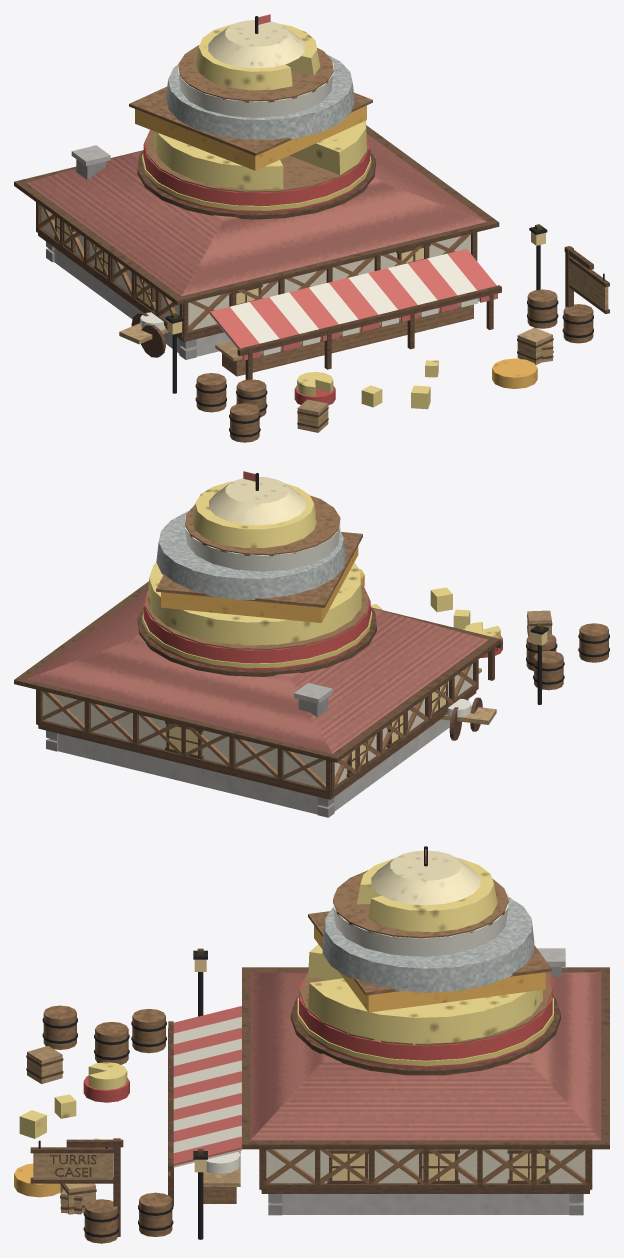
The model's file is TurrisCasei.fbx.
3 renders of one model, top to bottom at view 1: azimuth 30°, elevation 25°; view 2: azimuth 150°, elevation 25°; view 3: azimuth 270°, elevation 25°, orthographic. The views are drawn at different scales.
Visible parts, largest first — view 1: TurrisCasei; view 2: TurrisCasei; view 3: TurrisCasei.
Boxes of the visible parts, <box> form: TurrisCasei: <box>14,14,609,442</box>; TurrisCasei: <box>14,471,609,817</box>; TurrisCasei: <box>14,846,609,1243</box>.
Size of the model in its own units: 3836 by 2500 by 4630.
